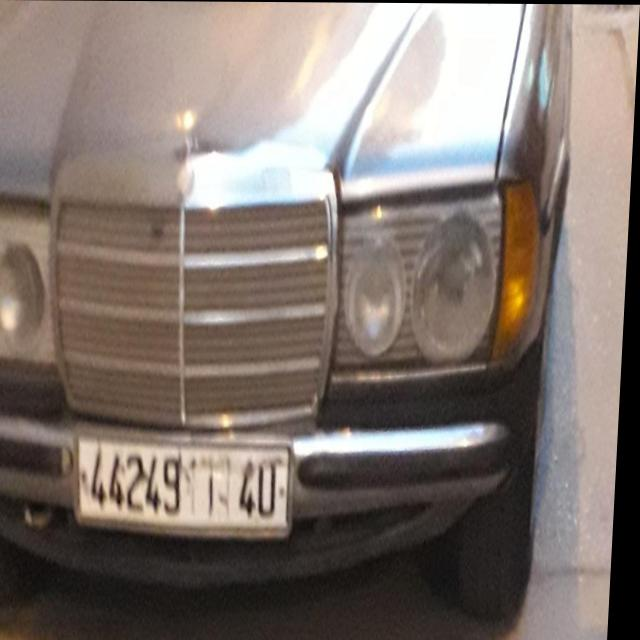License-Plate: (82, 436, 295, 536)
